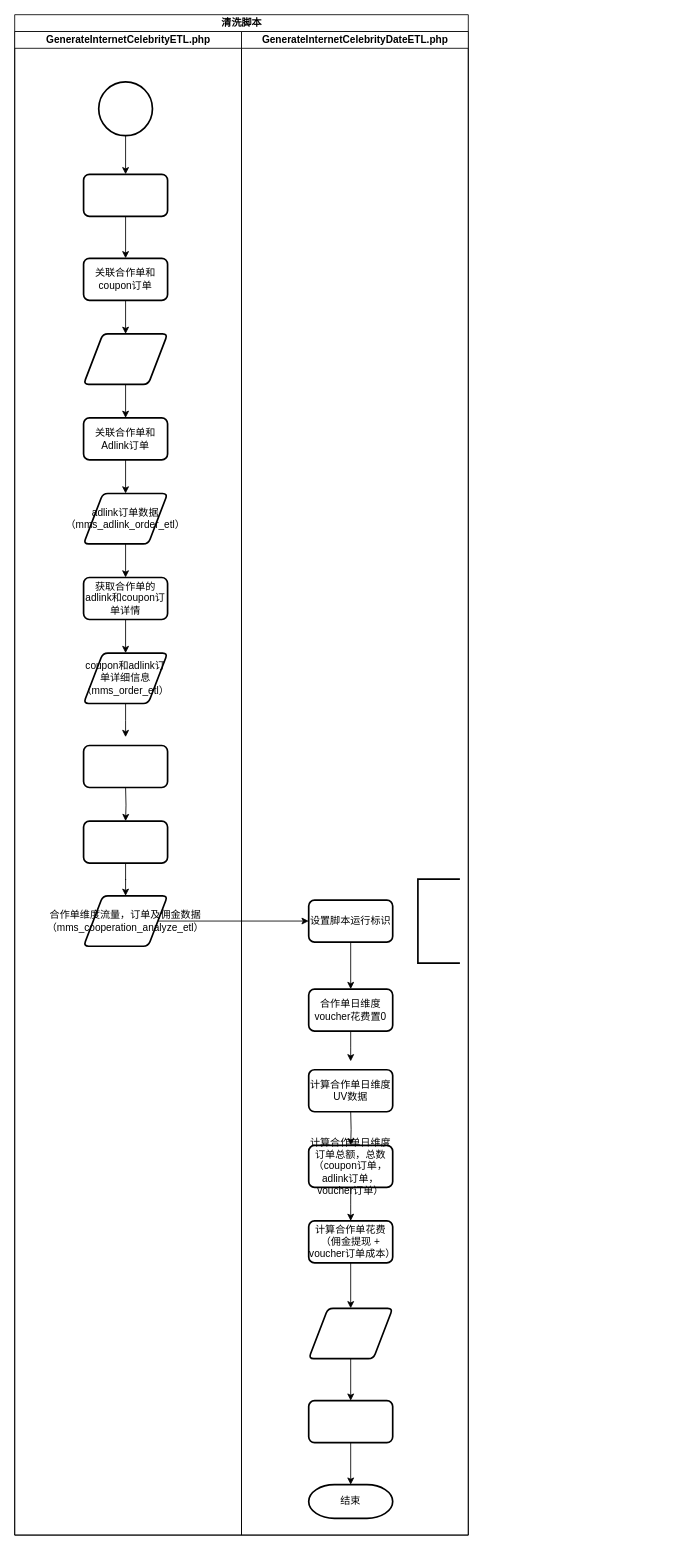
The diagram is 696 pixels wide and 1550 high, and some of its shapes have lost their labels. Each missing label, with the centre of its shape:
coupon订单数据（mms_coupon_order_etl）: (x=125, y=359)
合作单日维度的花费，收入以及流量数据 mms_cooperation_date_etl: (x=350, y=1333)
开始: (x=125, y=108)
清空原订单清洗结果表: (x=125, y=195)
清除脚本运行标识: (x=350, y=1421)
脚本正在运行时，不会显示网红信息列表页的销售汇总数据: (x=438, y=920)
计算合作单有效订单数据，订单额: (x=125, y=766)
计算合作单订单佣金: (x=125, y=842)
